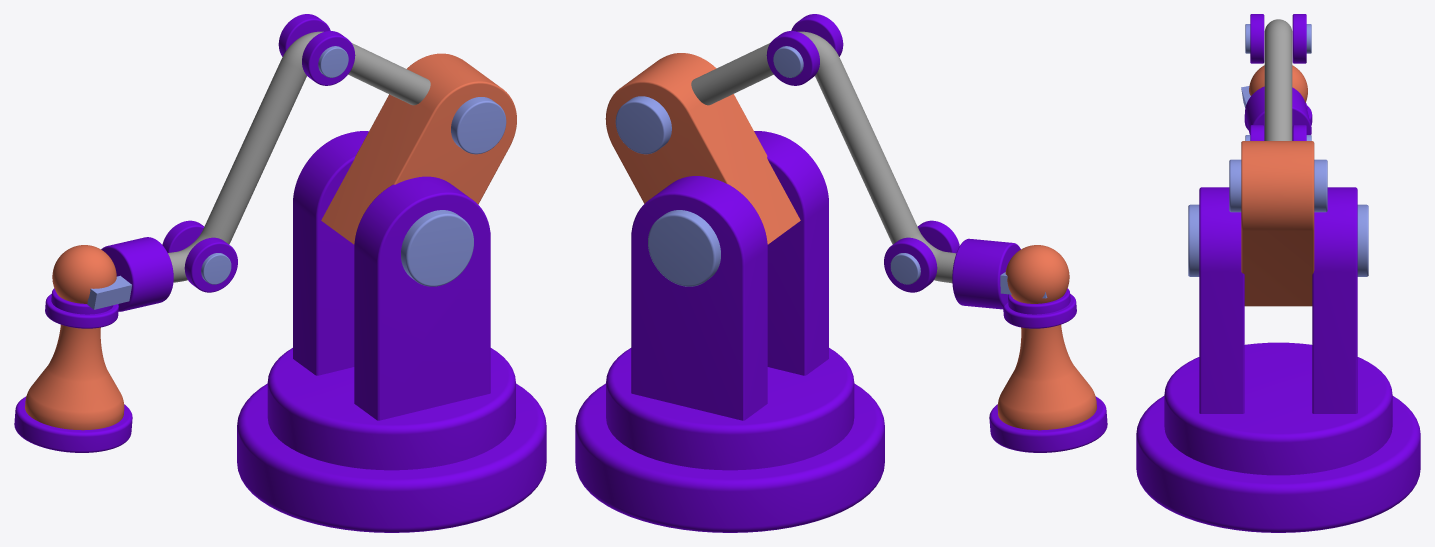
The model's file is reactive-machines-3d-animated-icon-1177324474484.glb.
The picture shows the model from 3 angles, left to right: view 1: azimuth 30°, elevation 25°; view 2: azimuth 150°, elevation 25°; view 3: azimuth 270°, elevation 25°; orthographic projection. The views are drawn at different scales.
Parts seen in each view (by area): view 1: Cube, Cylinder, Cylinder.001, Cube.001, Sphere, NurbsPath, Cylinder.012, Cylinder.002, Cylinder.008, Cylinder.006, Cylinder.003, Cylinder.004 (+3 smaller); view 2: Cube, Cylinder, Cylinder.001, Cube.001, Sphere, NurbsPath, Cylinder.012, Cylinder.002, Cylinder.008, Cylinder.006, Cylinder.003, Cylinder.004 (+2 smaller); view 3: Cylinder.001, Cube, Cylinder, Cube.001, NurbsPath, Cylinder.002, Cylinder.006, Cylinder.003, Cylinder.008, Sphere, Cylinder.004, Cylinder.007.
Boxes of the visible parts, x1,y1,x2,y2 form: Cube: [293, 131, 490, 420]; Cylinder: [237, 383, 546, 532]; Cylinder.001: [267, 348, 515, 470]; Cube.001: [321, 53, 516, 244]; Sphere: [25, 245, 124, 430]; NurbsPath: [168, 31, 430, 282]; Cylinder.012: [14, 288, 132, 452]; Cylinder.002: [401, 210, 473, 286]; Cylinder.008: [101, 237, 173, 311]; Cylinder.006: [278, 14, 355, 85]; Cylinder.003: [451, 97, 506, 154]; Cylinder.004: [162, 220, 237, 292]; Cube: [631, 131, 828, 420]; Cylinder: [575, 383, 884, 532]; Cylinder.001: [606, 348, 854, 470]; Cube.001: [605, 53, 800, 244]; Sphere: [997, 245, 1096, 430]; NurbsPath: [691, 31, 956, 283]; Cylinder.012: [989, 288, 1107, 452]; Cylinder.002: [648, 210, 720, 286]; Cylinder.008: [952, 238, 1020, 309]; Cylinder.006: [766, 14, 843, 85]; Cylinder.003: [615, 96, 671, 154]; Cylinder.004: [884, 220, 959, 292]; Cylinder.001: [1164, 342, 1392, 475]; Cube: [1199, 187, 1357, 413]; Cylinder: [1136, 396, 1420, 532]; Cube.001: [1241, 141, 1314, 306]; NurbsPath: [1264, 19, 1292, 140]; Cylinder.002: [1188, 204, 1368, 276]; Cylinder.006: [1250, 14, 1306, 63]; Cylinder.003: [1229, 159, 1327, 212]; Cylinder.008: [1245, 86, 1311, 140]; Sphere: [1249, 65, 1307, 102]; Cylinder.004: [1250, 125, 1306, 140]; Cylinder.007: [1245, 24, 1311, 53].
Size of the model in its own units: 0.5287 by 0.4649 by 0.2814.
